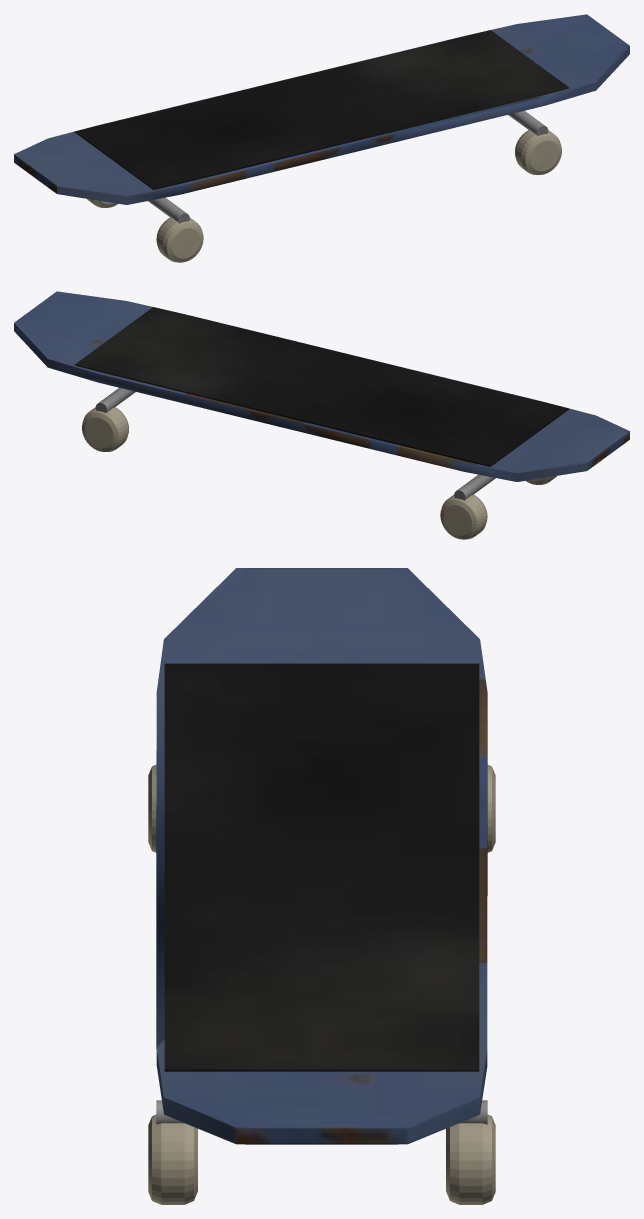
File: SP14_Skateboard.glb
3 renders of one model, top to bottom at view 1: azimuth 30°, elevation 25°; view 2: azimuth 150°, elevation 25°; view 3: azimuth 270°, elevation 25°, orthographic. The views are drawn at different scales.
Parts seen in each view (by area): view 1: SP14_Skateboard; view 2: SP14_Skateboard; view 3: SP14_Skateboard.
Boxes of the visible parts, x1,y1,x2,y2 form: SP14_Skateboard: [14, 14, 629, 262]; SP14_Skateboard: [14, 291, 629, 539]; SP14_Skateboard: [148, 568, 495, 1204].
Bounding box in the file's own units: 0.8 × 0.1188 × 0.21.
Materials: 4 (4 with a texture image).
